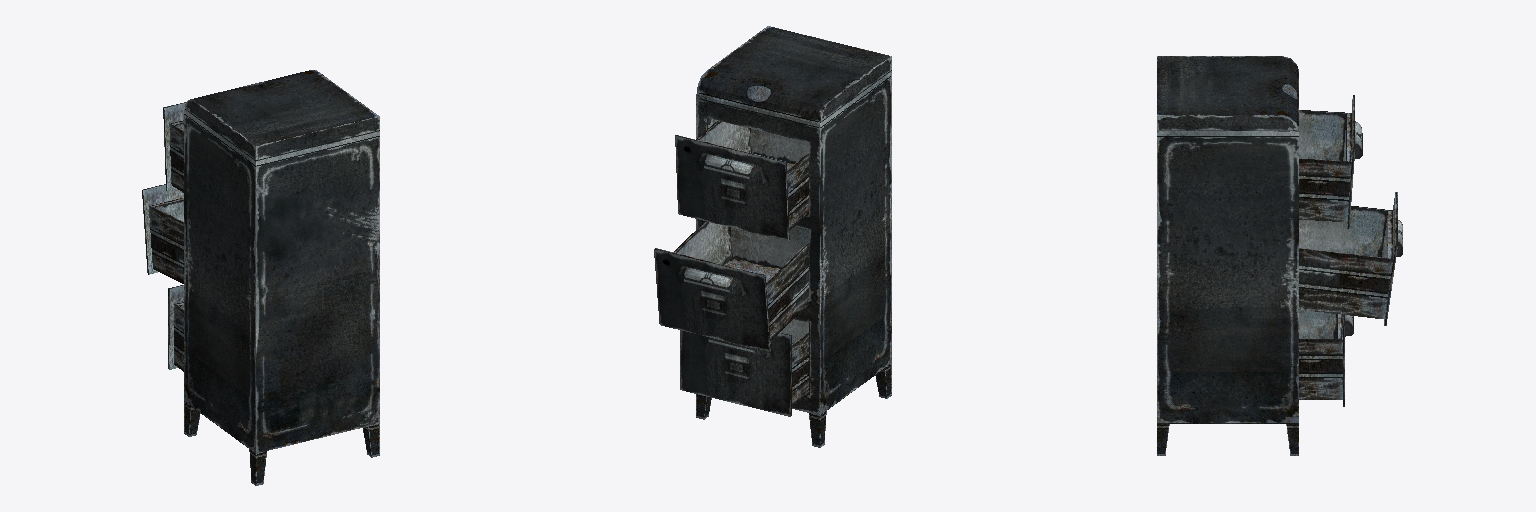
3 renders of one model, left to right at view 1: azimuth 30°, elevation 25°; view 2: azimuth 150°, elevation 25°; view 3: azimuth 270°, elevation 25°, orthographic.
Parts seen in each view (by area): view 1: Cabinet_Open; view 2: Cabinet_Open; view 3: Cabinet_Open.
Boxes of the visible parts, <box> form: Cabinet_Open: <box>142,70,379,485</box>; Cabinet_Open: <box>654,26,891,447</box>; Cabinet_Open: <box>1157,56,1402,455</box>.
Bounding box in the file's own units: 56 × 147 × 96.81.
1 materials, 1 textured.